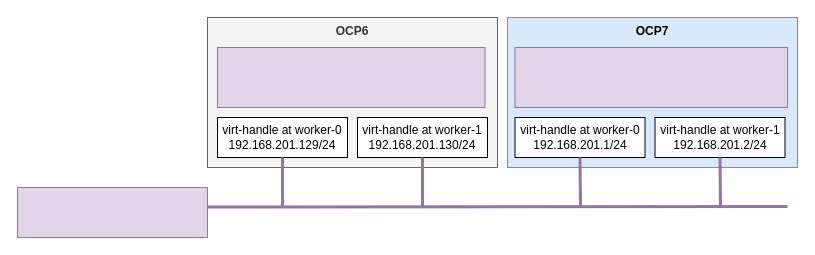
Some shapes in this 815 by 255 pixel diagram are drawn without their labels. Each missing label, with the box of its shape:
Live Migration Network 192.168.201.0/24 exclude: 192.168.201.0/25: (216, 46, 485, 108)
Live Migration Network 192.168.201.0/24 exclude: 192.168.201.128/25: (514, 46, 788, 108)
Live Migration Network 192.168.201.0/24 VLAN: 2001: (16, 186, 208, 238)
